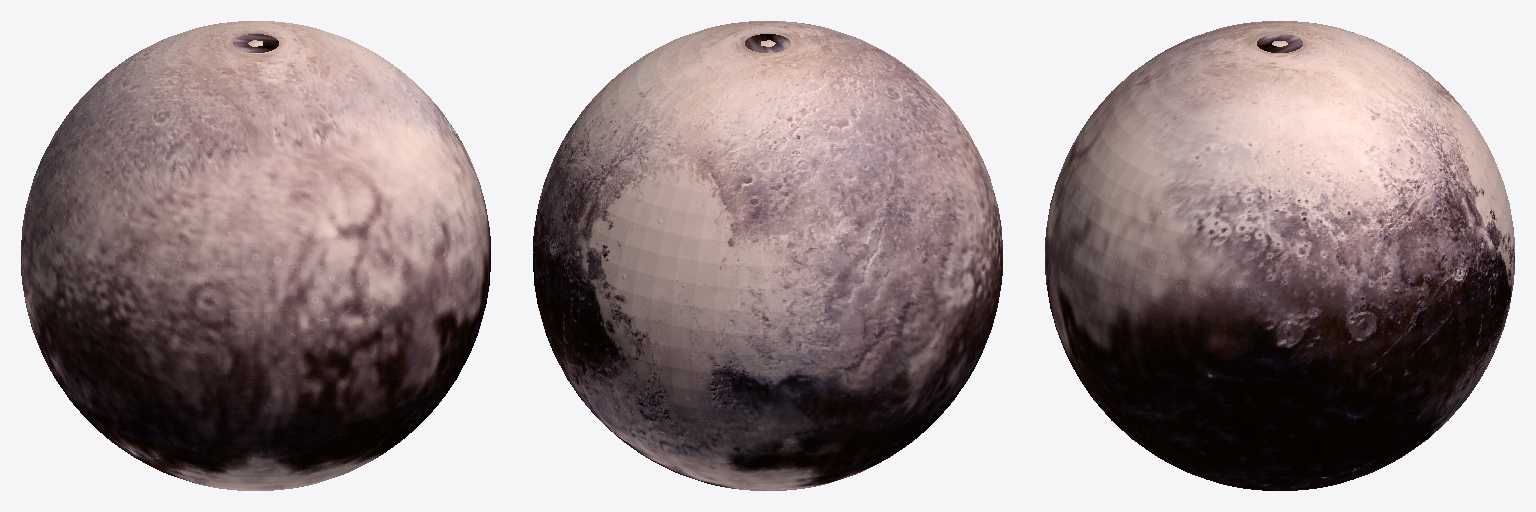
3 renders of one model, left to right at view 1: azimuth 30°, elevation 25°; view 2: azimuth 150°, elevation 25°; view 3: azimuth 270°, elevation 25°, orthographic.
Visible parts, largest first — view 1: Pluto_1, Pluto_Lod; view 2: Pluto_1, Pluto_Lod; view 3: Pluto_1, Pluto_Lod.
Part boxes in pixels (x1,y1,x2,y2): Pluto_1: (21,21,490,490); Pluto_Lod: (28,24,481,488); Pluto_1: (533,21,1002,490); Pluto_Lod: (542,24,995,488); Pluto_1: (1045,21,1514,490); Pluto_Lod: (1054,29,1505,479).
Bounding box in the file's own units: 2 × 2 × 2.
2 materials, 2 textured.